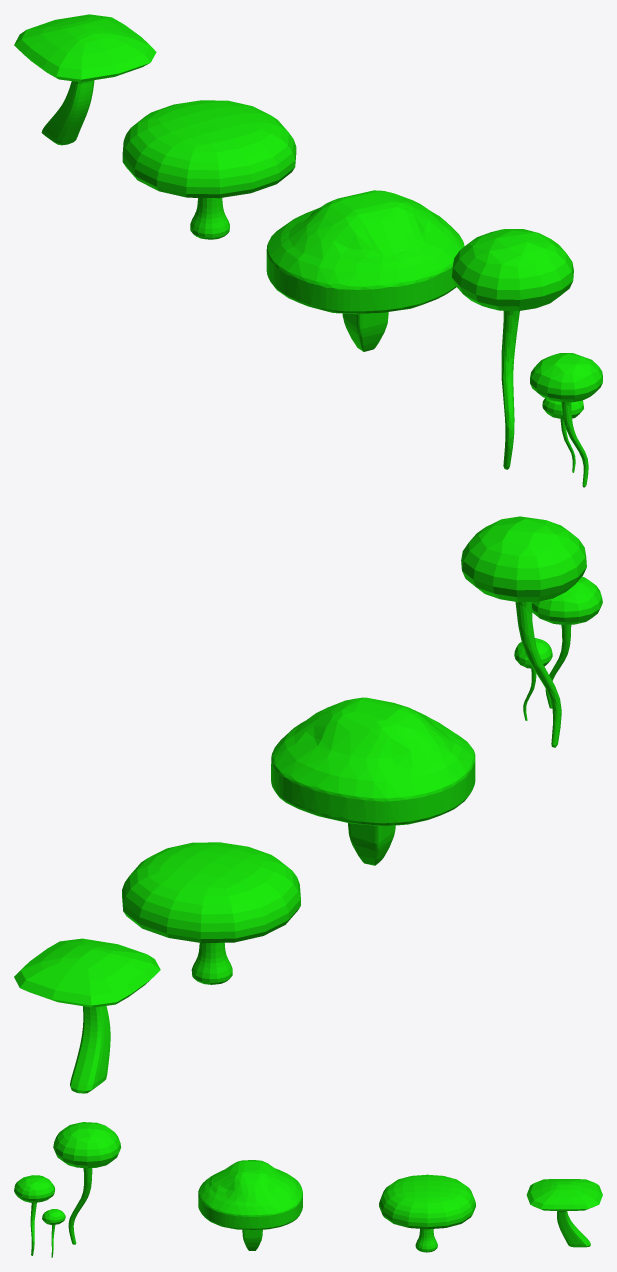
The model's file is mushrooms_set_001.fbx.
The picture shows the model from 3 angles, top to bottom: view 1: azimuth 30°, elevation 25°; view 2: azimuth 150°, elevation 25°; view 3: azimuth 270°, elevation 25°; orthographic projection. The views are drawn at different scales.
Parts seen in each view (by area): view 1: Mushroom_002, Mushroom_001, Mushroom_004, Mushroom_003; view 2: Mushroom_002, Mushroom_001, Mushroom_004, Mushroom_003; view 3: Mushroom_002, Mushroom_001, Mushroom_004, Mushroom_003.
Part boxes in pixels (x1,y1,x2,y2): Mushroom_002: (266, 190, 464, 351); Mushroom_001: (122, 100, 296, 239); Mushroom_004: (451, 229, 602, 487); Mushroom_003: (14, 14, 156, 145); Mushroom_002: (271, 697, 475, 865); Mushroom_001: (122, 842, 300, 984); Mushroom_004: (461, 516, 602, 747); Mushroom_003: (14, 938, 160, 1093); Mushroom_002: (198, 1160, 302, 1250); Mushroom_001: (379, 1174, 475, 1252); Mushroom_004: (14, 1122, 121, 1257); Mushroom_003: (526, 1179, 602, 1247).
Bounding box in the file's own units: 51.46 × 63.51 × 274.
